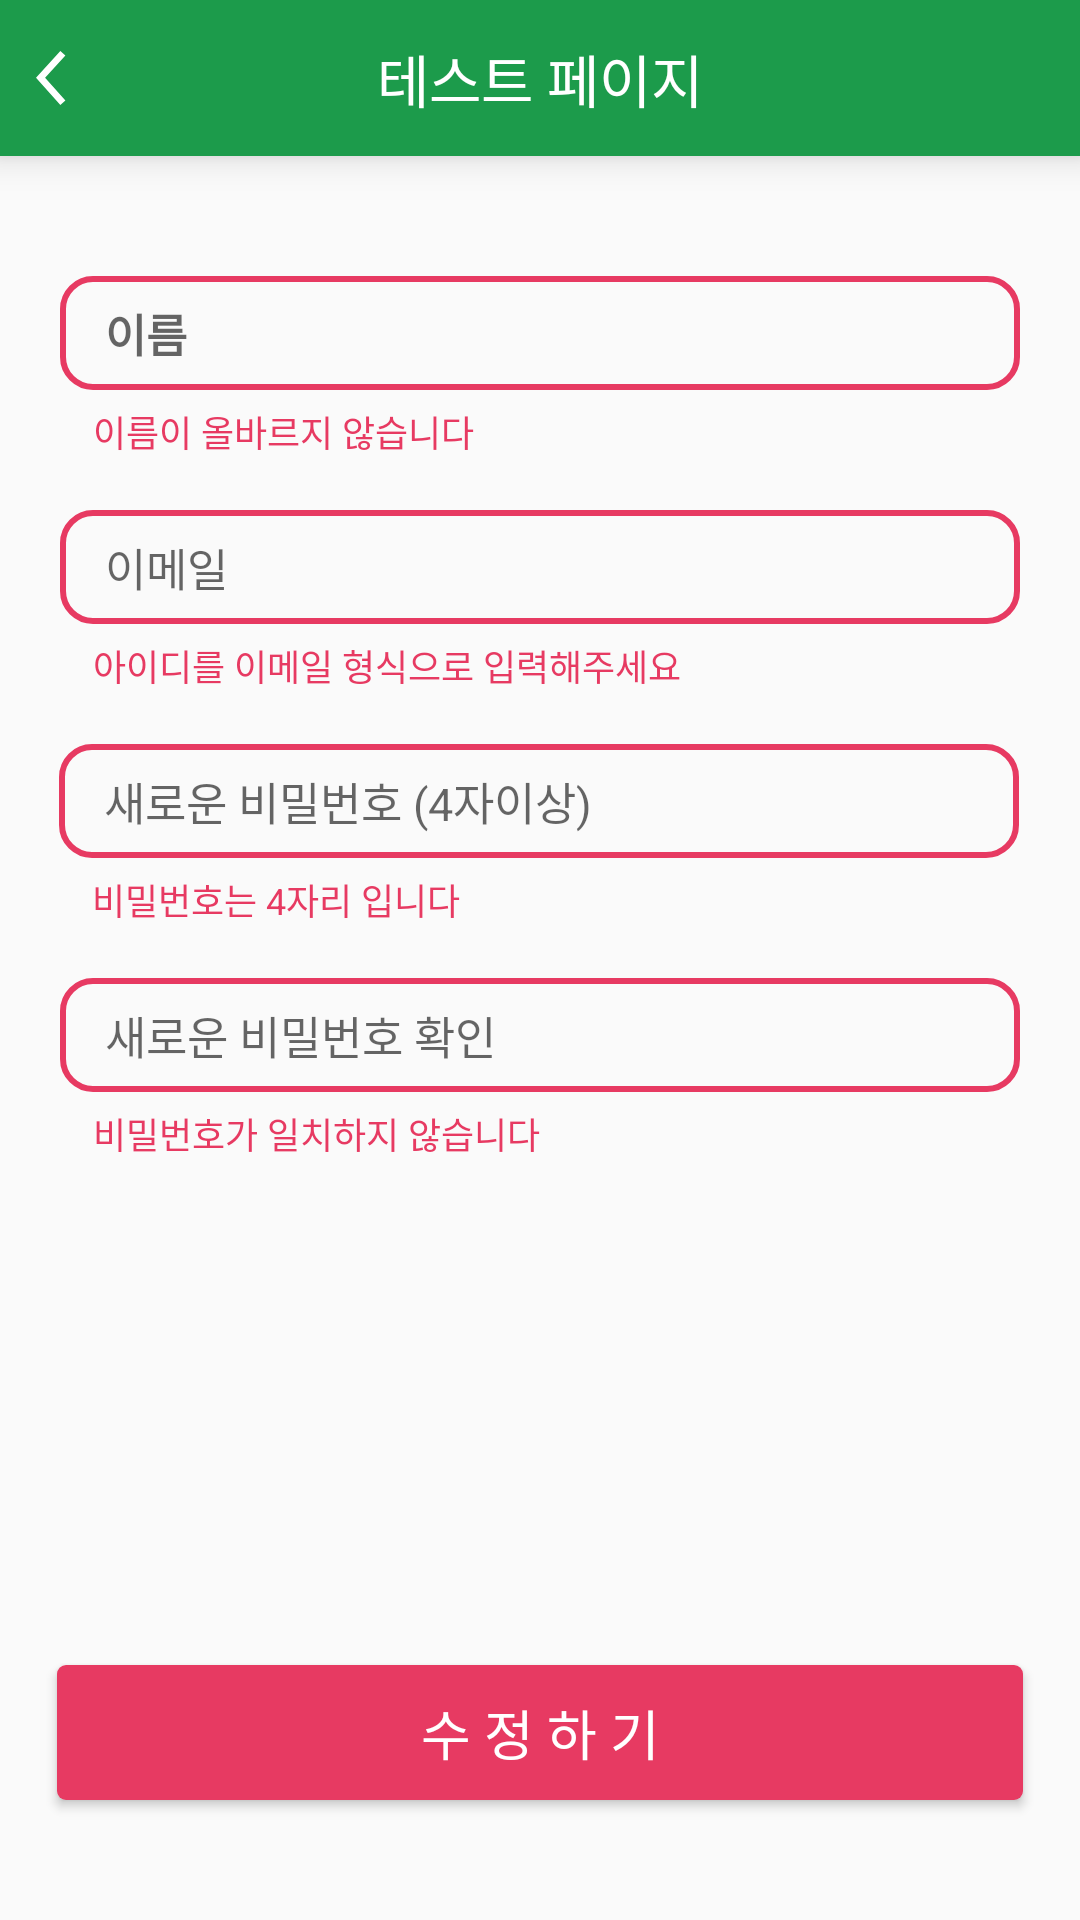

Screen size 1080*1920. Icon name, then its center in pixels as (x,y):
back: (51,78)
